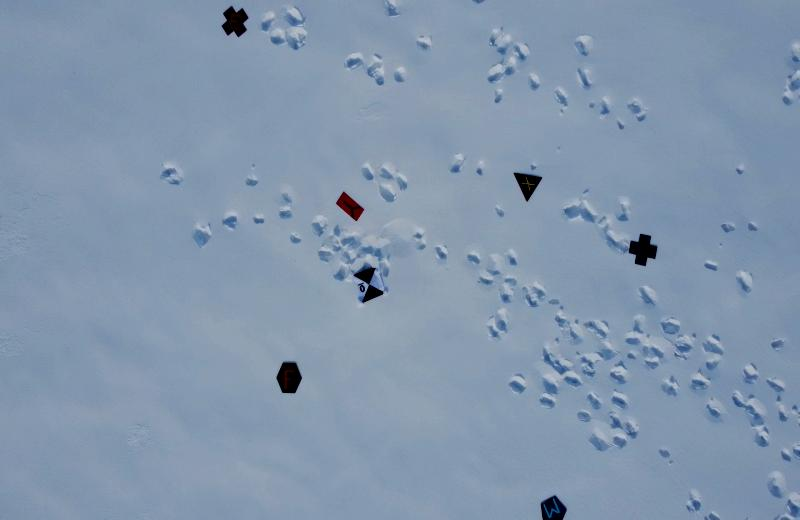Cross: (627, 230, 660, 268), (219, 5, 252, 40)
Hexagon: (273, 360, 305, 398)
Pentagon: (537, 493, 570, 520)
Rectangle: (332, 186, 367, 225)
Triangle: (511, 168, 543, 205)
